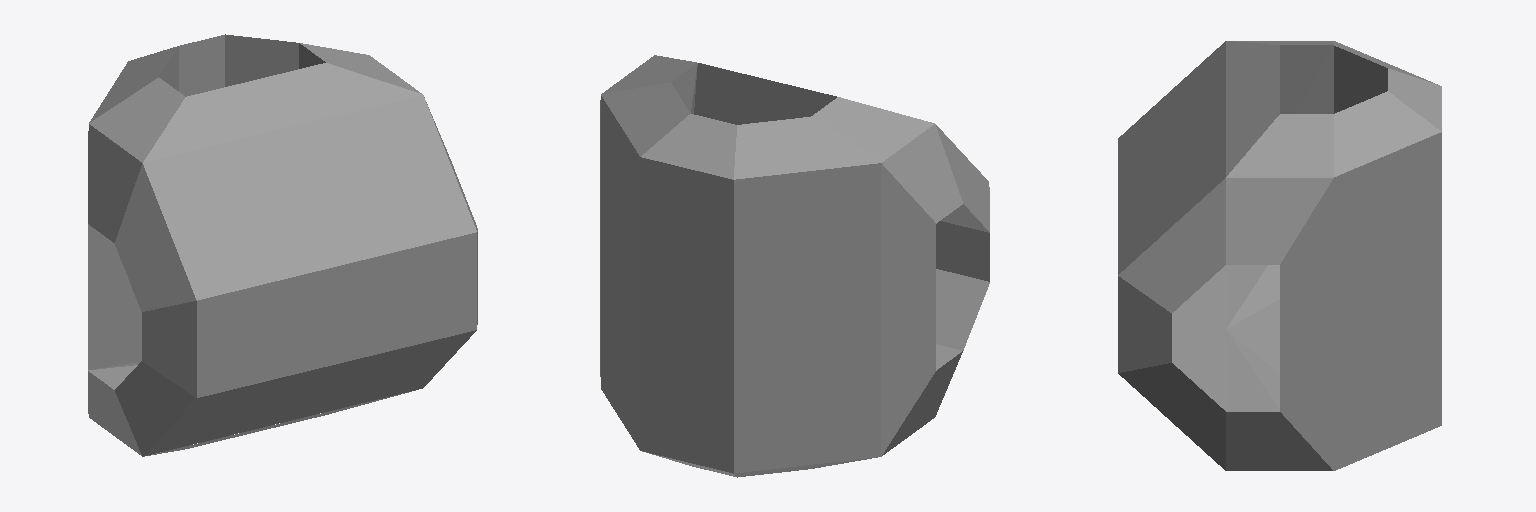
File: cubic.obj
3 renders of one model, left to right at view 1: azimuth 30°, elevation 25°; view 2: azimuth 150°, elevation 25°; view 3: azimuth 270°, elevation 25°, orthographic.
Visible parts, largest first — view 1: Cube.001_Cube.003; view 2: Cube.001_Cube.003; view 3: Cube.001_Cube.003.
Boxes of the visible parts, <box> form: Cube.001_Cube.003: <box>88,34,477,456</box>; Cube.001_Cube.003: <box>600,55,989,477</box>; Cube.001_Cube.003: <box>1118,41,1441,470</box>.
Bounding box in the file's own units: 1.8 × 1.8 × 1.5.